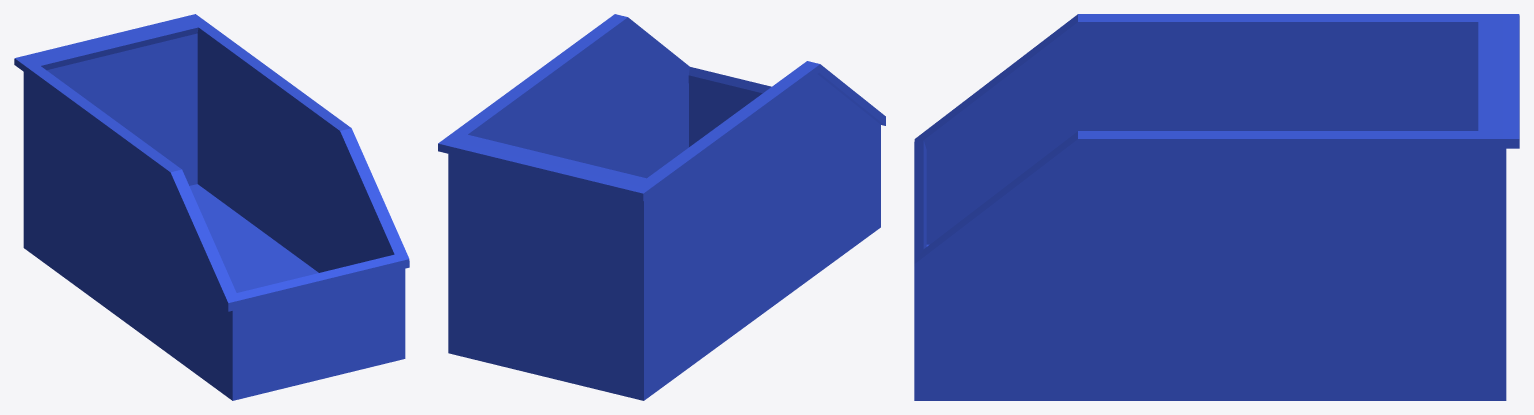
File: Caja.fbx
3 renders of one model, left to right at view 1: azimuth 30°, elevation 25°; view 2: azimuth 150°, elevation 25°; view 3: azimuth 270°, elevation 25°, orthographic. The views are drawn at different scales.
Parts seen in each view (by area): view 1: Caja1; view 2: Caja1; view 3: Caja1.
Part boxes in pixels (<box>): Caja1: <box>14,14,409,400</box>; Caja1: <box>438,14,885,400</box>; Caja1: <box>914,14,1519,400</box>.
Size of the model in its own units: 210 by 208 by 430.
